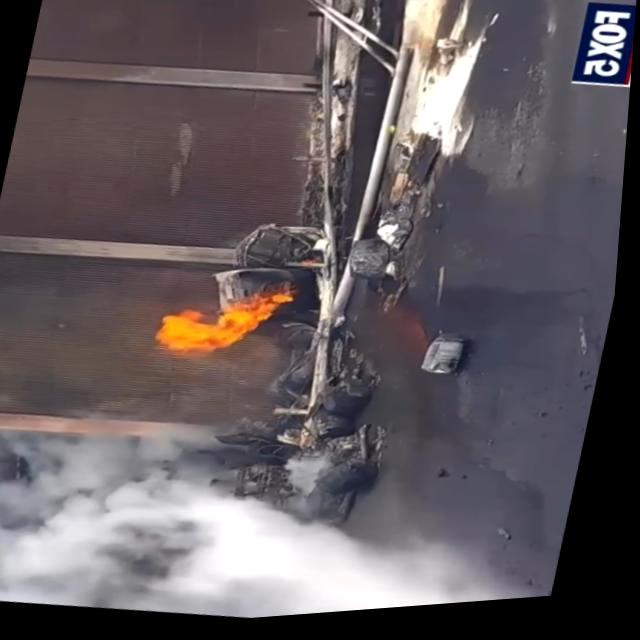fire: (150, 275, 306, 375)
